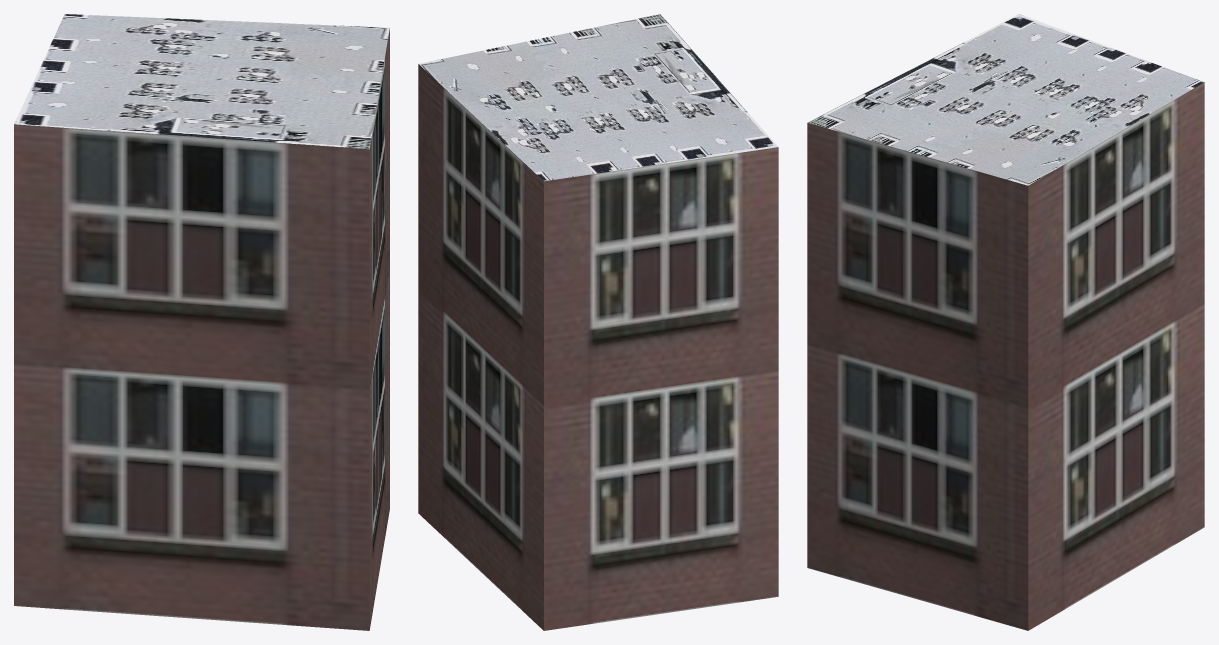
The model's file is ResTex__5326.fbx.
3 renders of one model, left to right at view 1: azimuth 30°, elevation 25°; view 2: azimuth 150°, elevation 25°; view 3: azimuth 270°, elevation 25°, orthographic. The views are drawn at different scales.
Visible parts, largest first — view 1: CityEngineMaterial_12_m, CityEngineMaterial_8_m; view 2: CityEngineMaterial_12_m, CityEngineMaterial_8_m; view 3: CityEngineMaterial_12_m, CityEngineMaterial_8_m.
Part boxes in pixels (bbox=[...]): CityEngineMaterial_12_m: bbox=[14, 28, 389, 630]; CityEngineMaterial_8_m: bbox=[14, 14, 389, 149]; CityEngineMaterial_12_m: bbox=[418, 64, 778, 630]; CityEngineMaterial_8_m: bbox=[418, 14, 778, 181]; CityEngineMaterial_12_m: bbox=[807, 82, 1204, 630]; CityEngineMaterial_8_m: bbox=[807, 14, 1204, 185].
Bounding box in the file's own units: 4.96 × 6 × 4.85.
2 materials, 2 textured.
